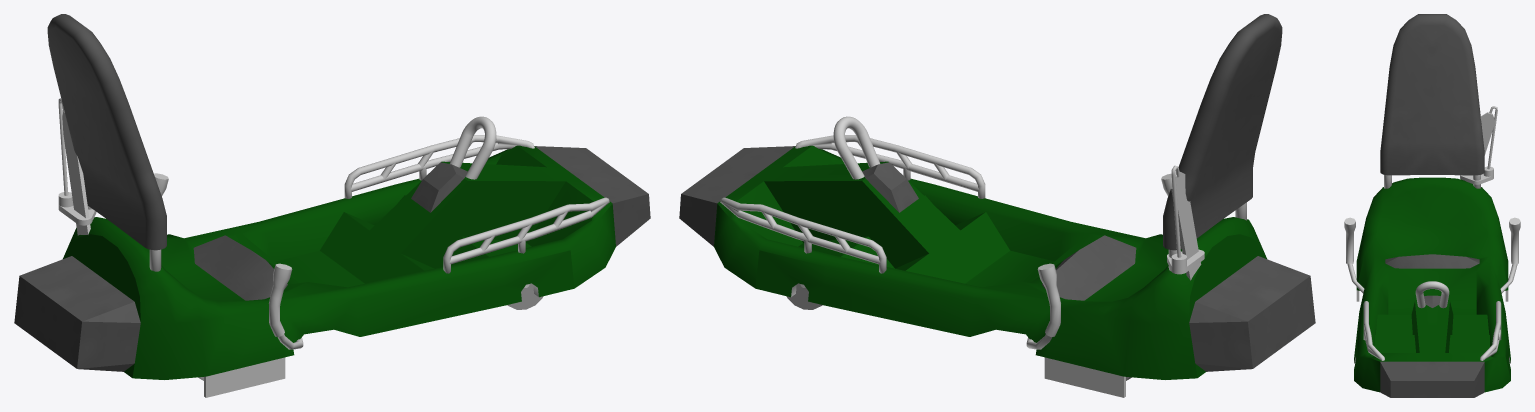
File: car.obj
The picture shows the model from 3 angles, left to right: view 1: azimuth 30°, elevation 25°; view 2: azimuth 150°, elevation 25°; view 3: azimuth 270°, elevation 25°; orthographic projection. The views are drawn at different scales.
Bounding box in the file's own units: 1.69 × 0.9944 × 0.675.
